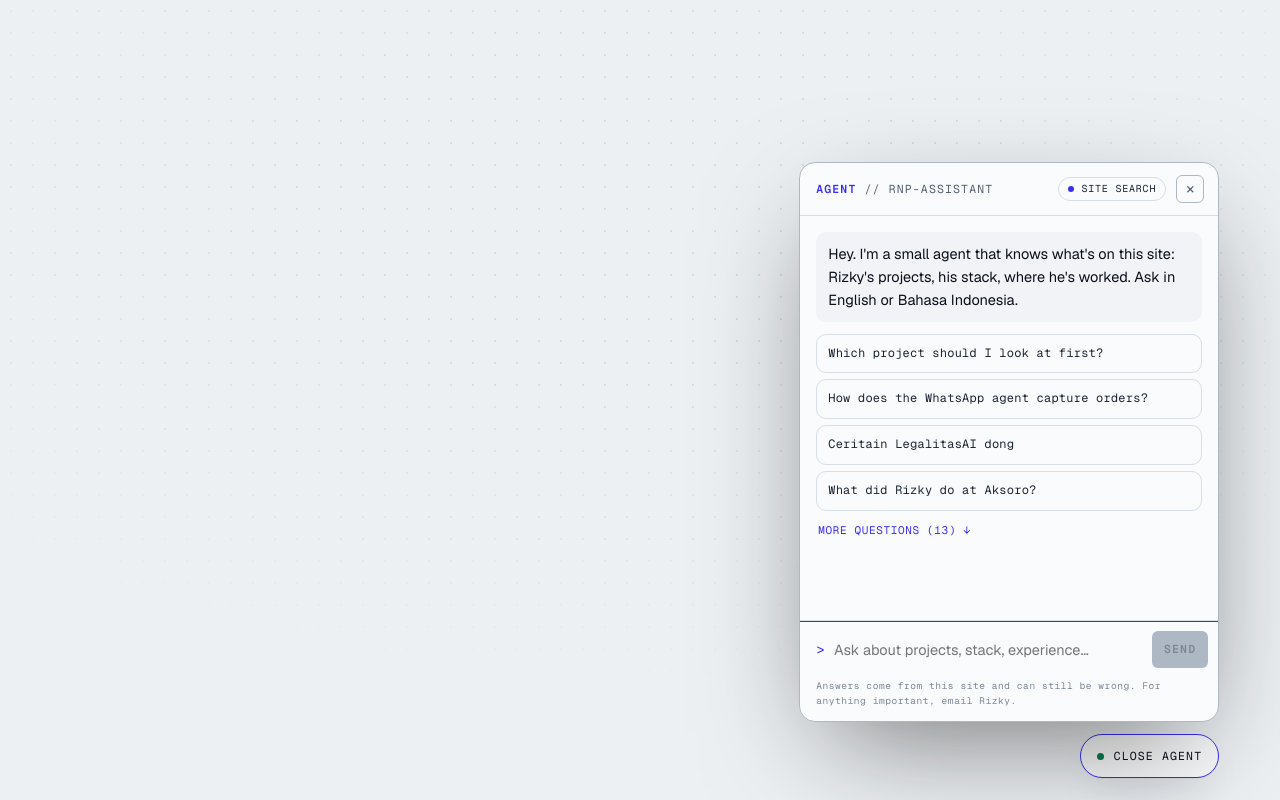
Test: AgentConsole › answers free-form questions from the site, with links to the source section
Expected: the text "site search" is shown, [1058, 177, 1166, 201]
In the field: (989, 649) [834, 632, 1144, 667], type "how does the citation validator work?"
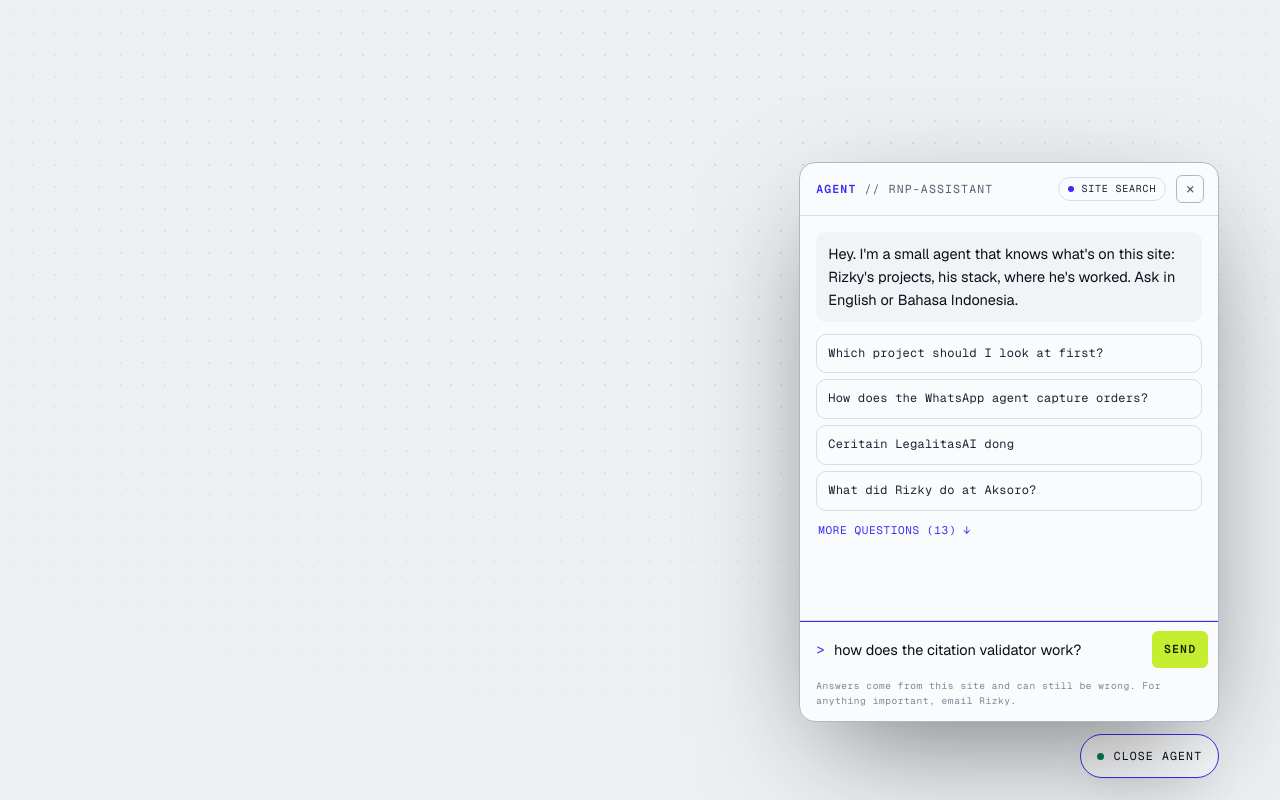
Submit the form, box [800, 620, 1218, 678]
Wait 600 ms
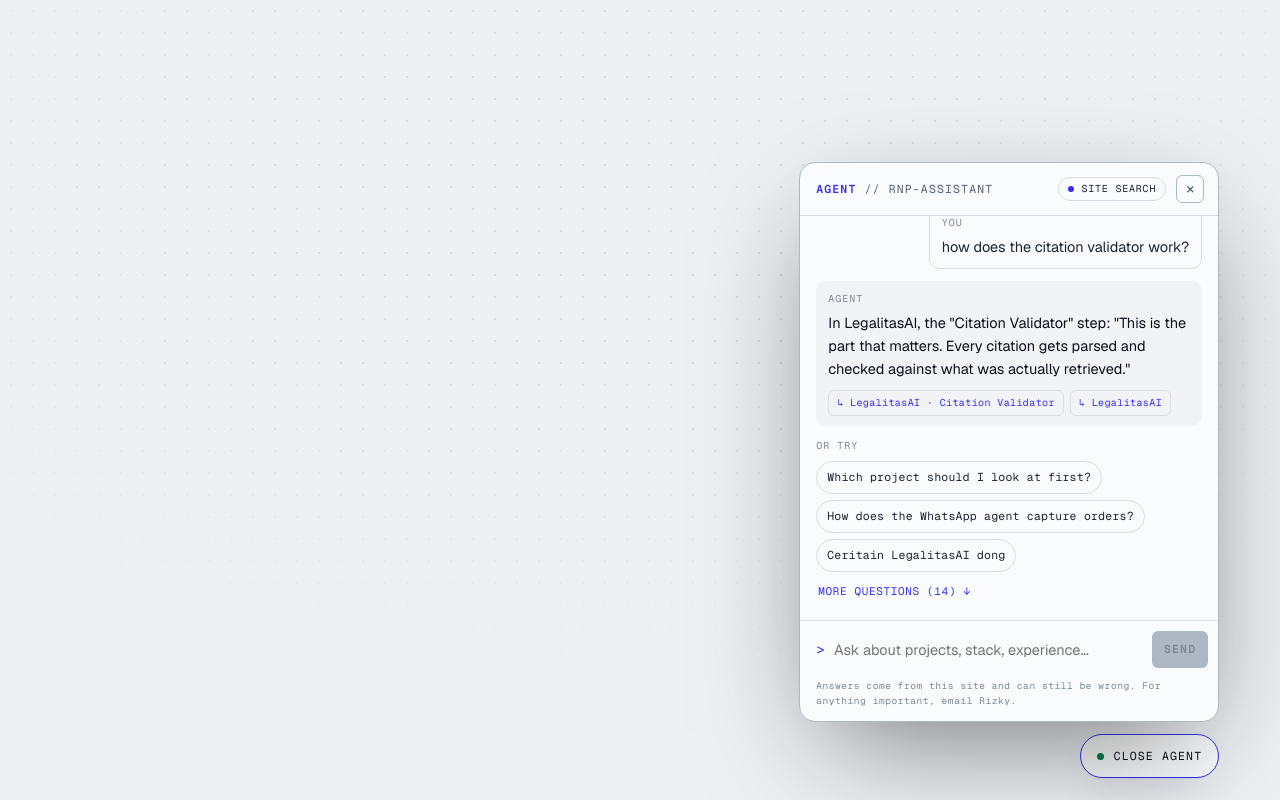
Result: the text "Every citation gets parsed" is shown at [828, 313, 1190, 378]
